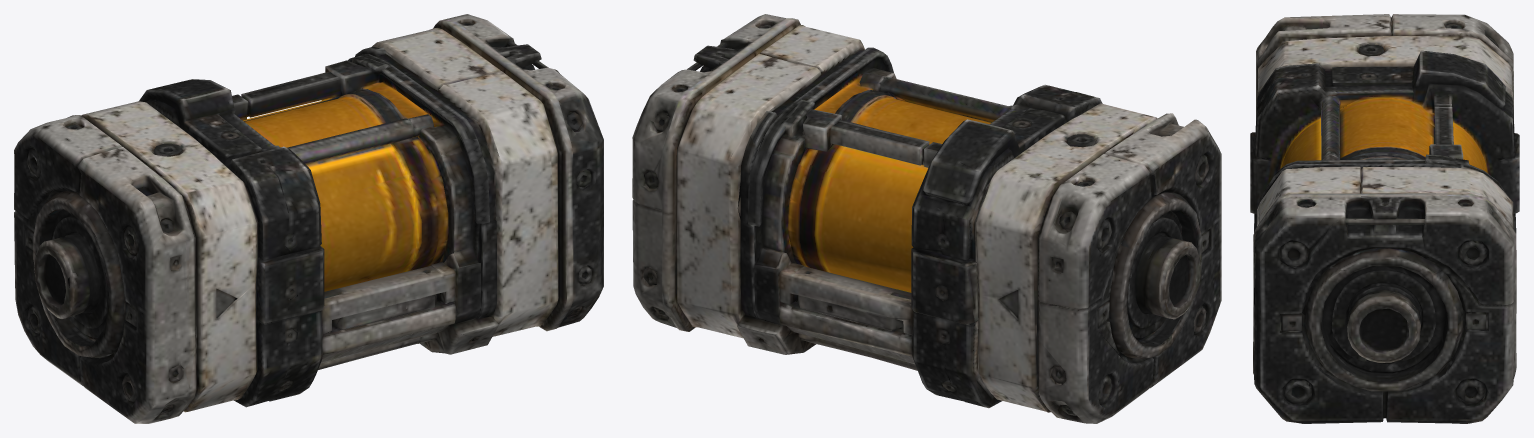
The model's file is salvage-cassette.glb.
3 renders of one model, left to right at view 1: azimuth 30°, elevation 25°; view 2: azimuth 150°, elevation 25°; view 3: azimuth 270°, elevation 25°, orthographic. The views are drawn at different scales.
Parts seen in each view (by area): view 1: salvage-cassette; view 2: salvage-cassette; view 3: salvage-cassette.
Boxes of the visible parts, x1=… form: salvage-cassette: x1=14, y1=14, x2=603, y2=423; salvage-cassette: x1=632, y1=14, x2=1221, y2=423; salvage-cassette: x1=1250, y1=14, x2=1519, y2=423.
Bounding box in the file's own units: 0.28 × 0.1343 × 0.1385.
Materials: 2 (2 with a texture image).
